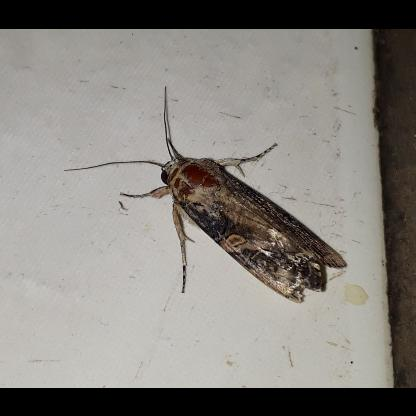Fall Armyworm Moth: (63, 82, 349, 306)
